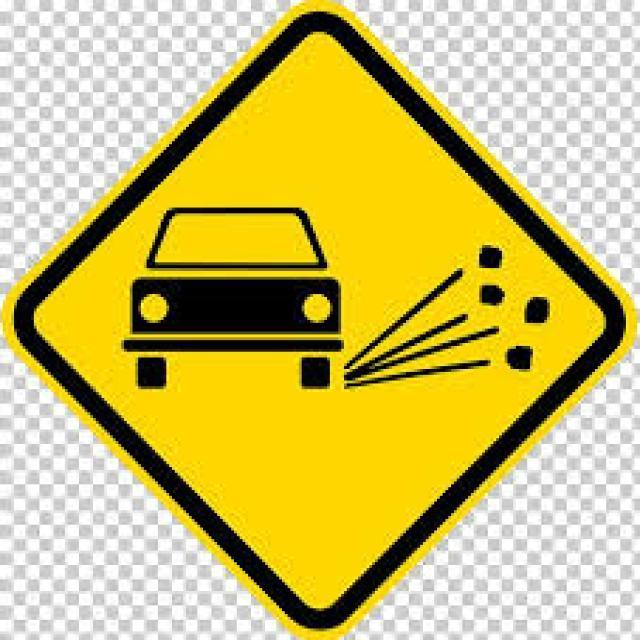loose gravel: (27, 28, 625, 597)
